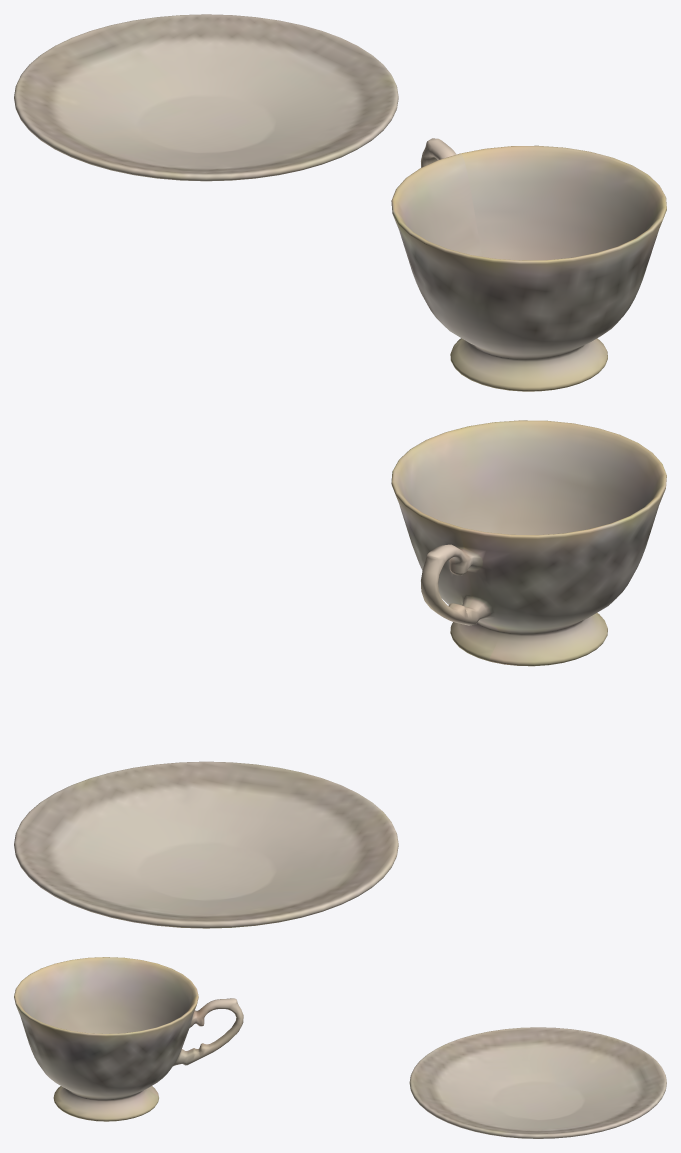
The model's file is teacup.glb.
3 renders of one model, top to bottom at view 1: azimuth 30°, elevation 25°; view 2: azimuth 150°, elevation 25°; view 3: azimuth 270°, elevation 25°, orthographic. The views are drawn at different scales.
Parts seen in each view (by area): view 1: tea_set_01_cup_small_01, tea_set_01_saucer_circular_04; view 2: tea_set_01_cup_small_01, tea_set_01_saucer_circular_04; view 3: tea_set_01_cup_small_01, tea_set_01_saucer_circular_04.
Part boxes in pixels (x1,y1,x2,y2): tea_set_01_cup_small_01: (391,138,666,391); tea_set_01_saucer_circular_04: (14,14,398,181); tea_set_01_cup_small_01: (391,420,666,666); tea_set_01_saucer_circular_04: (14,761,398,928); tea_set_01_cup_small_01: (14,957,243,1121); tea_set_01_saucer_circular_04: (409,1027,666,1138).
Bounding box in the file's own units: 0.149 × 0.0704 × 0.3779.
1 material, 1 textured.
